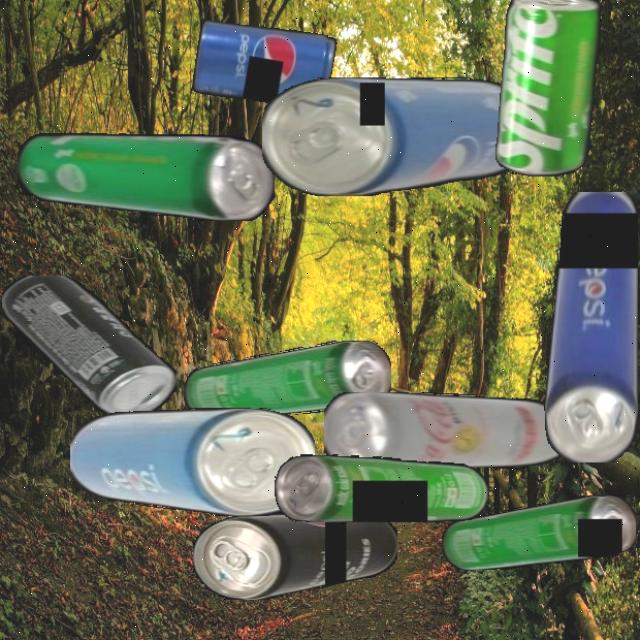debris: (262, 77, 534, 196), (69, 408, 315, 516), (543, 191, 638, 462), (2, 275, 177, 417), (494, 0, 633, 177), (17, 130, 274, 221), (324, 391, 575, 469), (193, 510, 397, 600), (183, 341, 391, 420), (275, 453, 488, 522), (441, 495, 636, 570), (190, 15, 337, 114)
